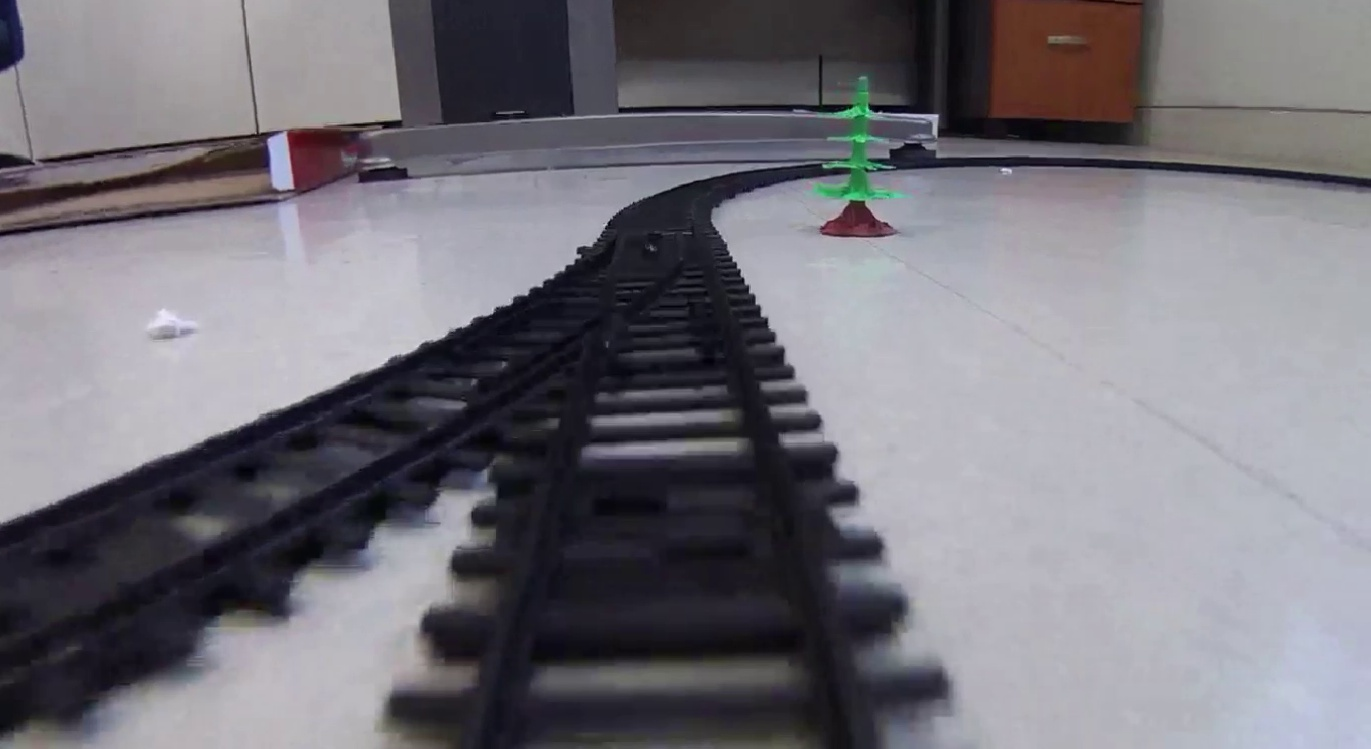tree: (809, 73, 905, 236)
